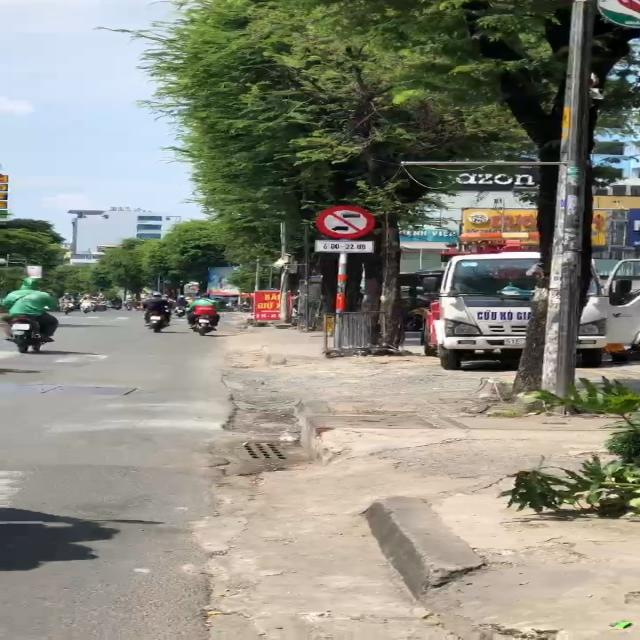Bien bao cam xe oto khach va xe oto tai: (316, 203, 376, 240)
